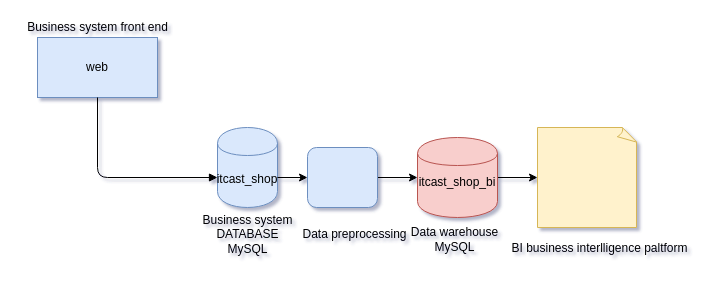
The diagram is 717 pixels wide and 282 high, and some of its shapes have lost their labels. Here are the shapes that lost their labels. From the top down, the box of each, then its label:
(306, 146, 378, 208): Kettle
(536, 126, 638, 228): FineBI
